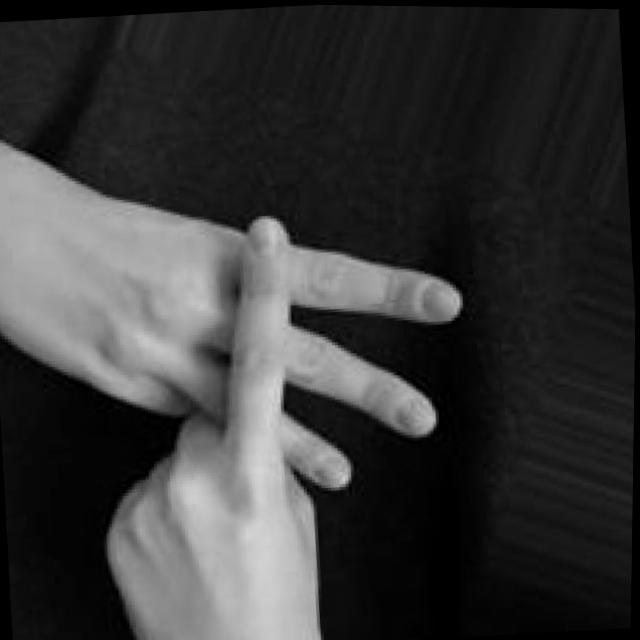E: (0, 155, 497, 640)
